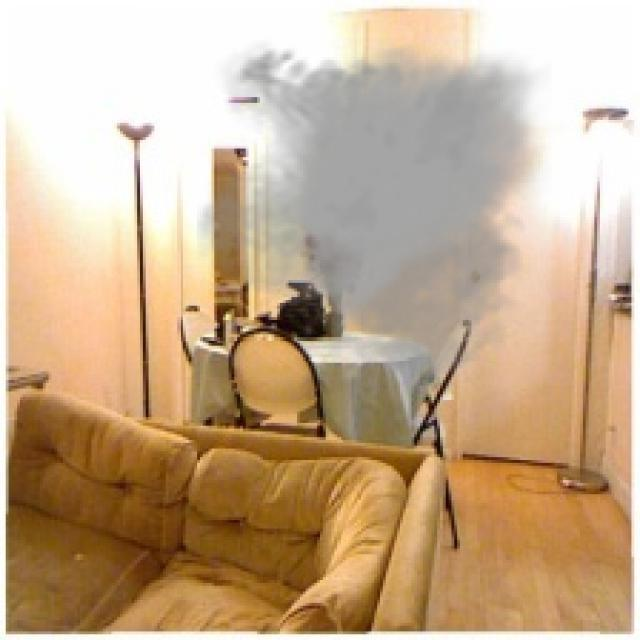Smoke: (197, 37, 552, 380)
